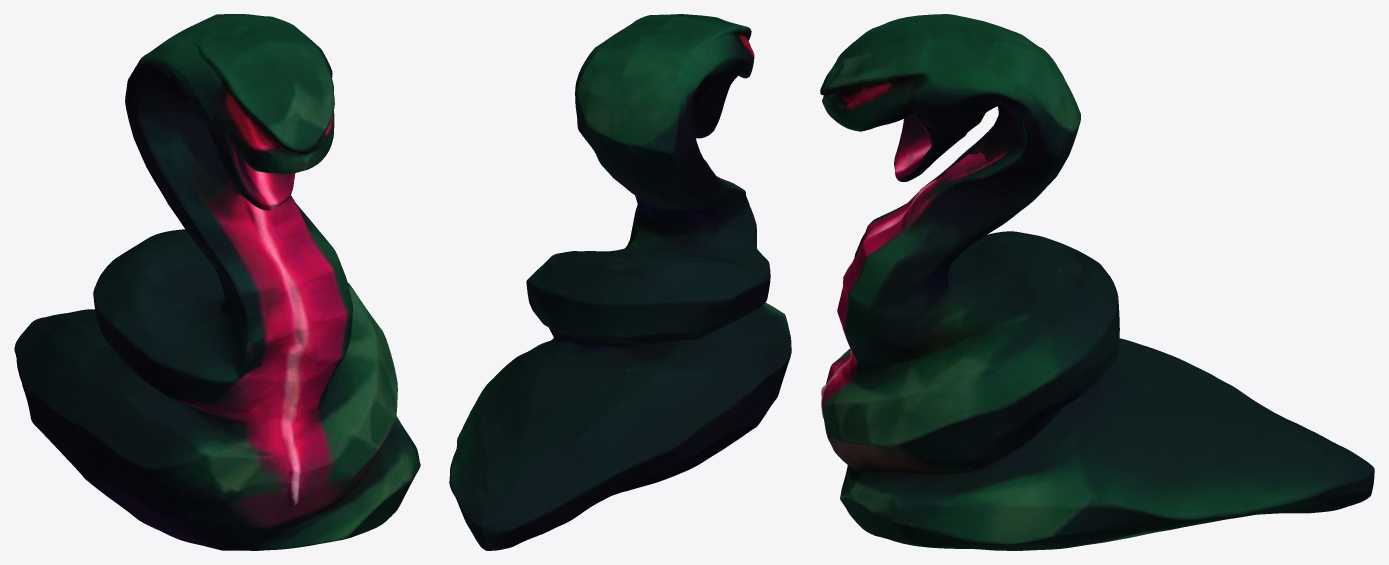
File: SEAMDRINKER.glb
The picture shows the model from 3 angles, left to right: view 1: azimuth 30°, elevation 25°; view 2: azimuth 150°, elevation 25°; view 3: azimuth 270°, elevation 25°; orthographic projection. The views are drawn at different scales.
Parts seen in each view (by area): view 1: SEAMDRINKER; view 2: SEAMDRINKER; view 3: SEAMDRINKER.
Boxes of the visible parts, x1,y1,x2,y2 form: SEAMDRINKER: (14, 14, 420, 550); SEAMDRINKER: (449, 14, 791, 550); SEAMDRINKER: (820, 14, 1374, 550).
Size of the model in its own units: 1.2 by 1.84 by 1.99.
Materials: 1 (1 with a texture image).
